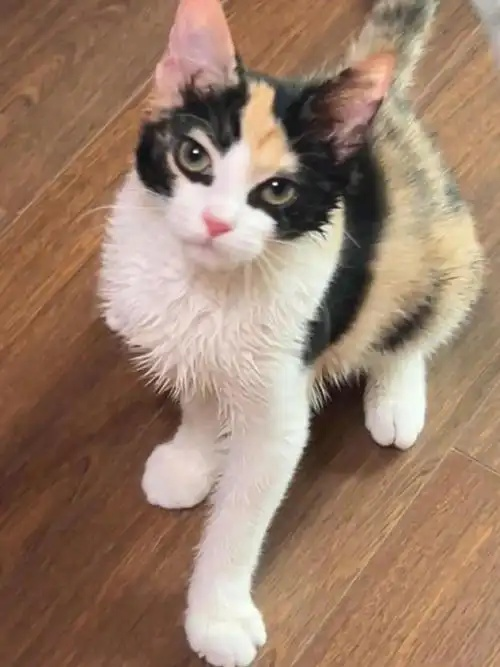三花猫: (225, 0, 499, 381), (102, 57, 390, 411)
